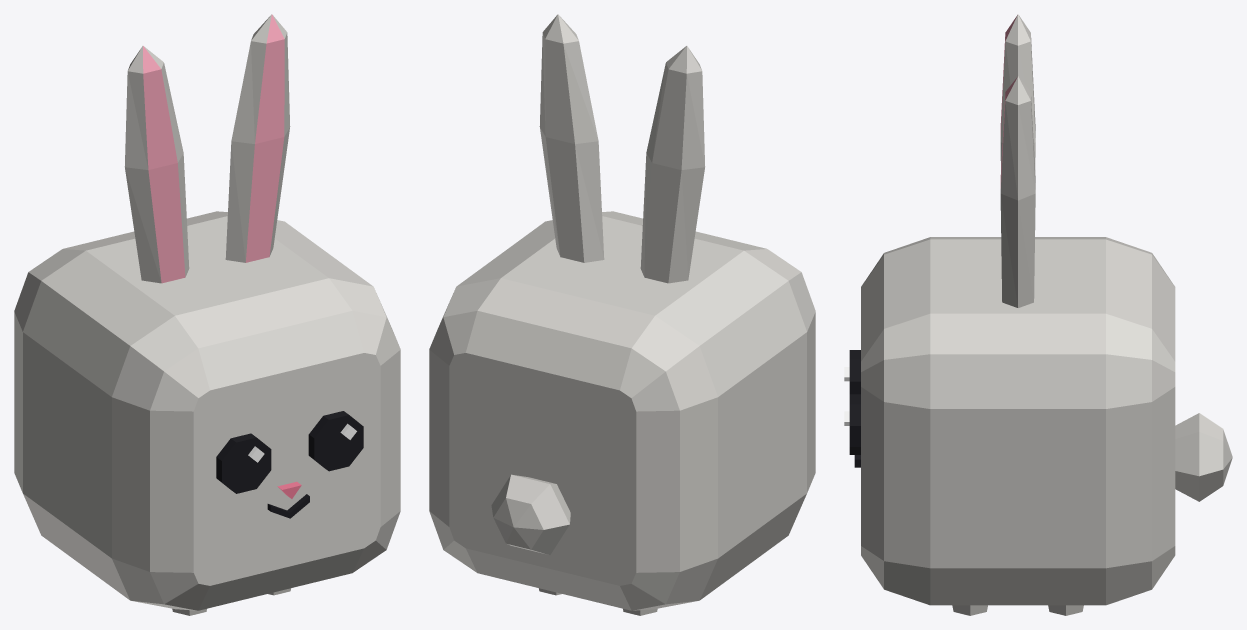
The model's file is bunny-pet.glb.
3 views of the same model, side by side, from view 1: azimuth 30°, elevation 25°; view 2: azimuth 150°, elevation 25°; view 3: azimuth 270°, elevation 25° (orthographic).
Parts seen in each view (by area): view 1: Body, Accent, Eyes; view 2: Body; view 3: Body, Eyes.
Part boxes in pixels (left/top/right/bottom): Body: left=14, top=14, right=400, bottom=615; Accent: left=143, top=14, right=284, bottom=283; Eyes: left=216, top=411, right=363, bottom=518; Body: left=429, top=14, right=815, bottom=615; Body: left=861, top=14, right=1232, bottom=615; Eyes: left=849, top=350, right=860, bottom=467.
Size of the model in its own units: 2 by 3.75 by 2.43.
